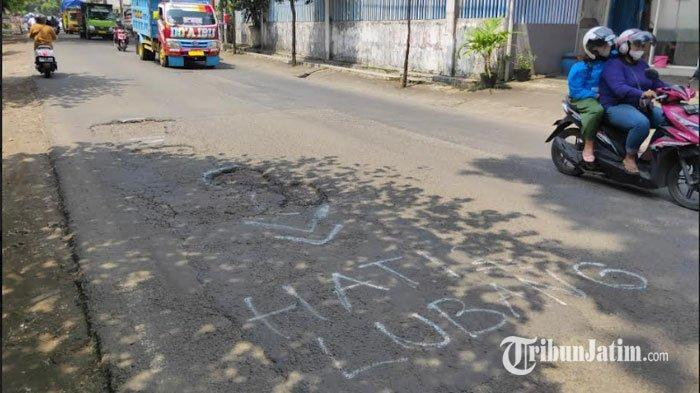Pothole: (193, 148, 352, 242), (74, 100, 186, 153)
